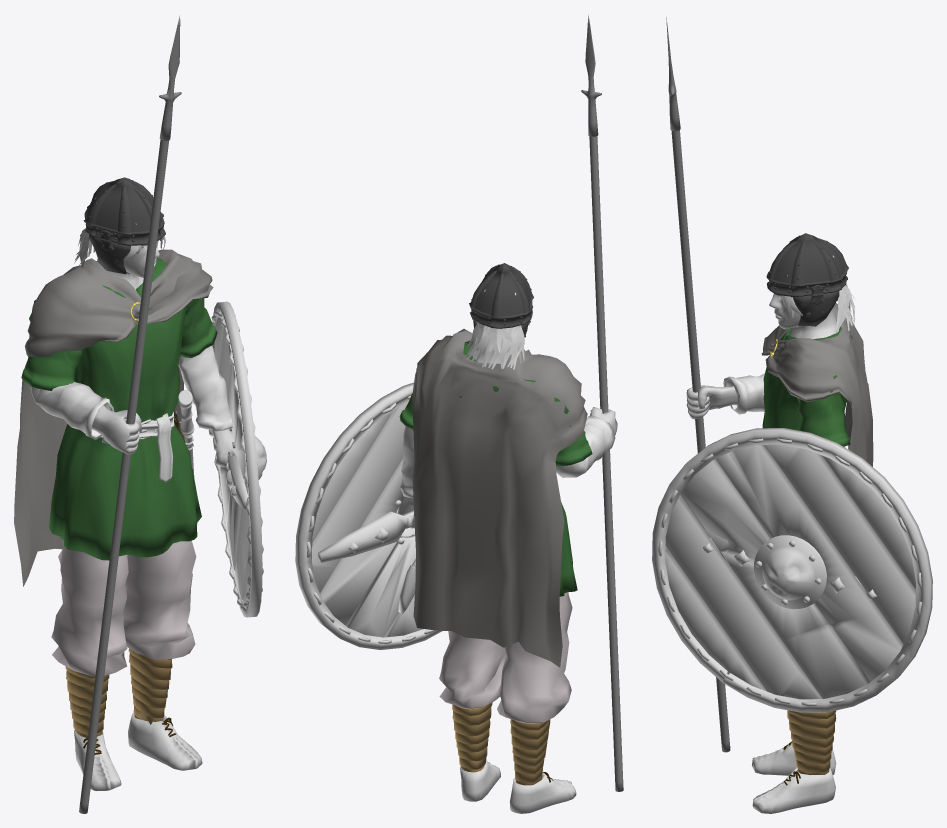
Rendered from saxon_warrior.glb.
3 renders of one model, left to right at view 1: azimuth 30°, elevation 25°; view 2: azimuth 150°, elevation 25°; view 3: azimuth 270°, elevation 25°, orthographic. The views are drawn at different scales.
Parts seen in each view (by area): view 1: NPC_Saxon; view 2: NPC_Saxon; view 3: NPC_Saxon.
Boxes of the visible parts, x1,y1,x2,y2 form: NPC_Saxon: [14, 15, 266, 813]; NPC_Saxon: [295, 15, 623, 813]; NPC_Saxon: [652, 16, 932, 813].
Bounding box in the file's own units: 0.8681 × 2.6 × 0.8626.
